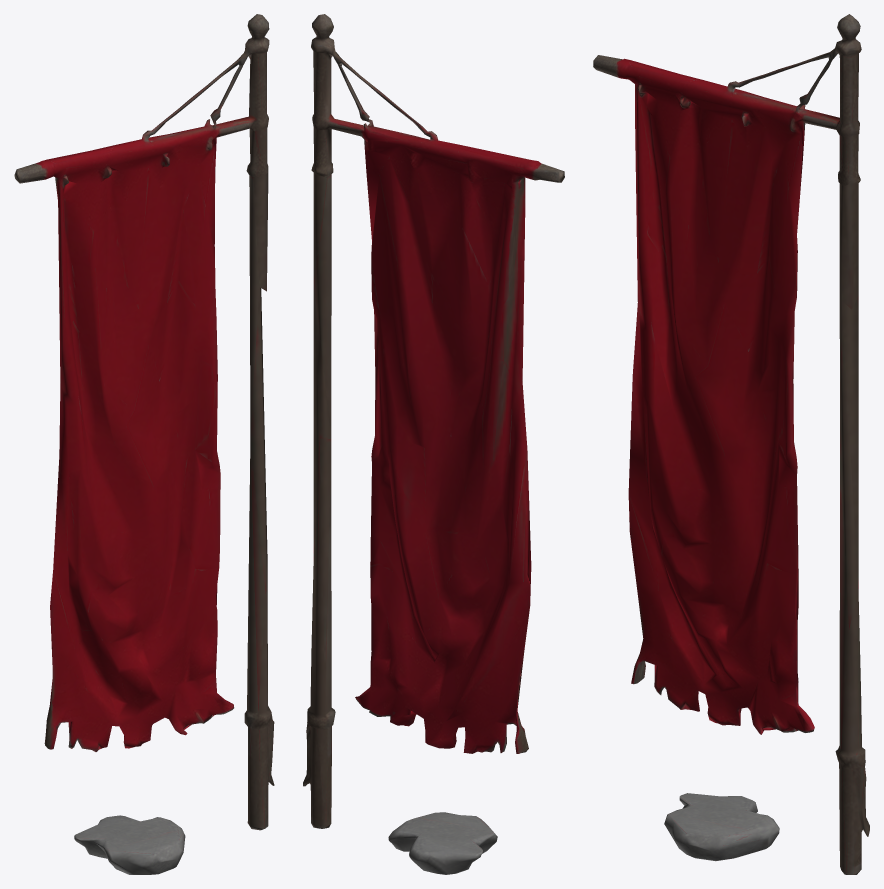
File: prp_banner_a.glb
3 renders of one model, left to right at view 1: azimuth 30°, elevation 25°; view 2: azimuth 150°, elevation 25°; view 3: azimuth 330°, elevation 25°, orthographic. The views are drawn at different scales.
Parts seen in each view (by area): view 1: prp_banner_a; view 2: prp_banner_a; view 3: prp_banner_a.
Part boxes in pixels (<box>): prp_banner_a: <box>14,14,274,874</box>; prp_banner_a: <box>303,14,564,874</box>; prp_banner_a: <box>593,14,869,874</box>.
Bounding box in the file's own units: 1.16 × 3.5 × 0.4233.
Materials: 1 (1 with a texture image).
